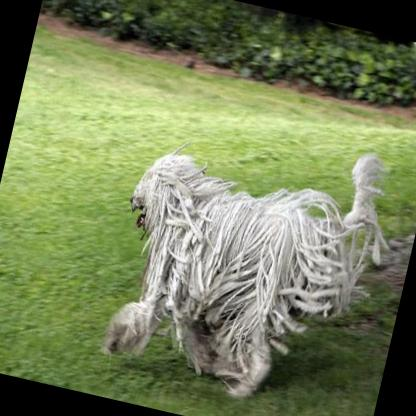komondor: (90, 98, 409, 416)
